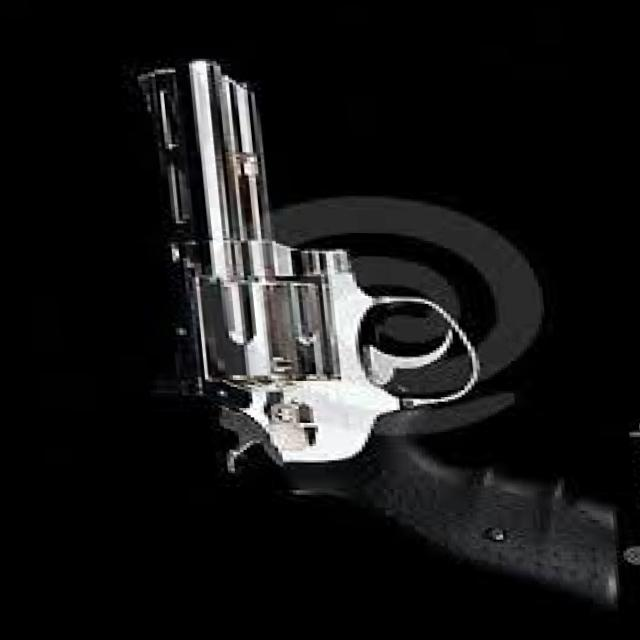handgun: (123, 53, 616, 614)
